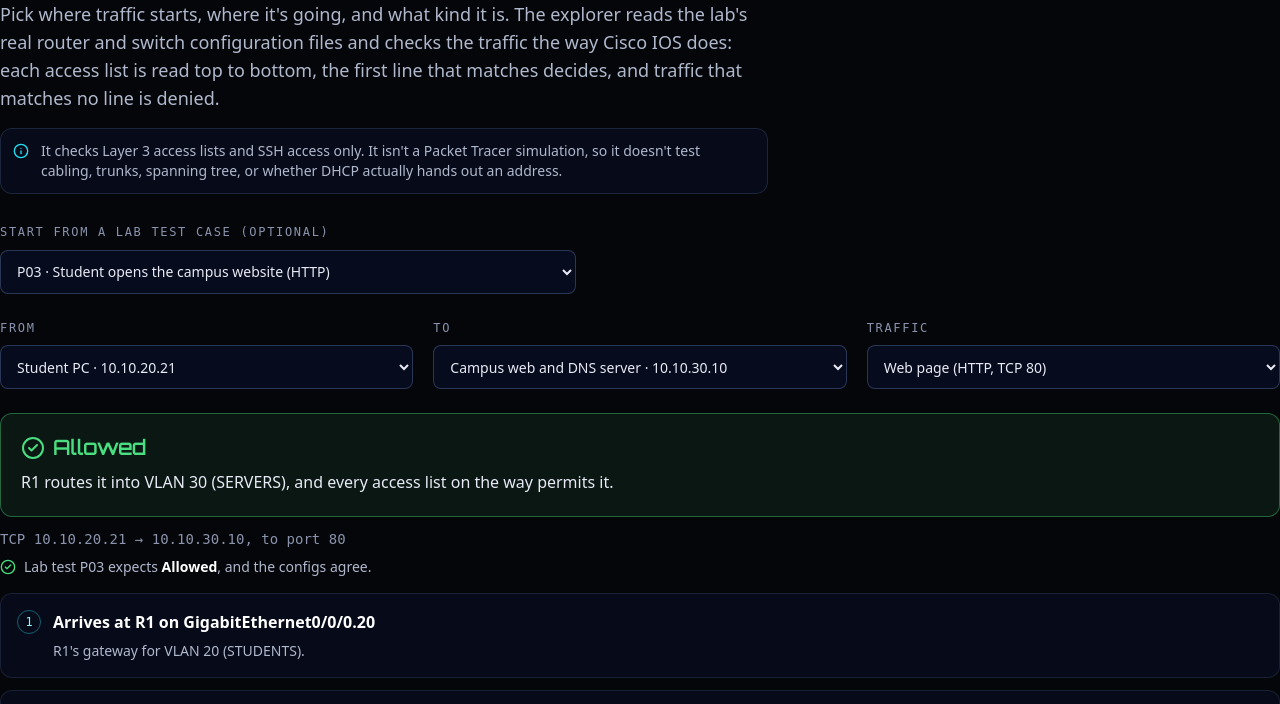
Test: policy explorer › accepts a typed address and port, and explains invalid input
The width and height of the screenshot is (1280, 704).
Select "Another address…" in the dropdown labelled "To": (640, 367) [433,345,847,389]
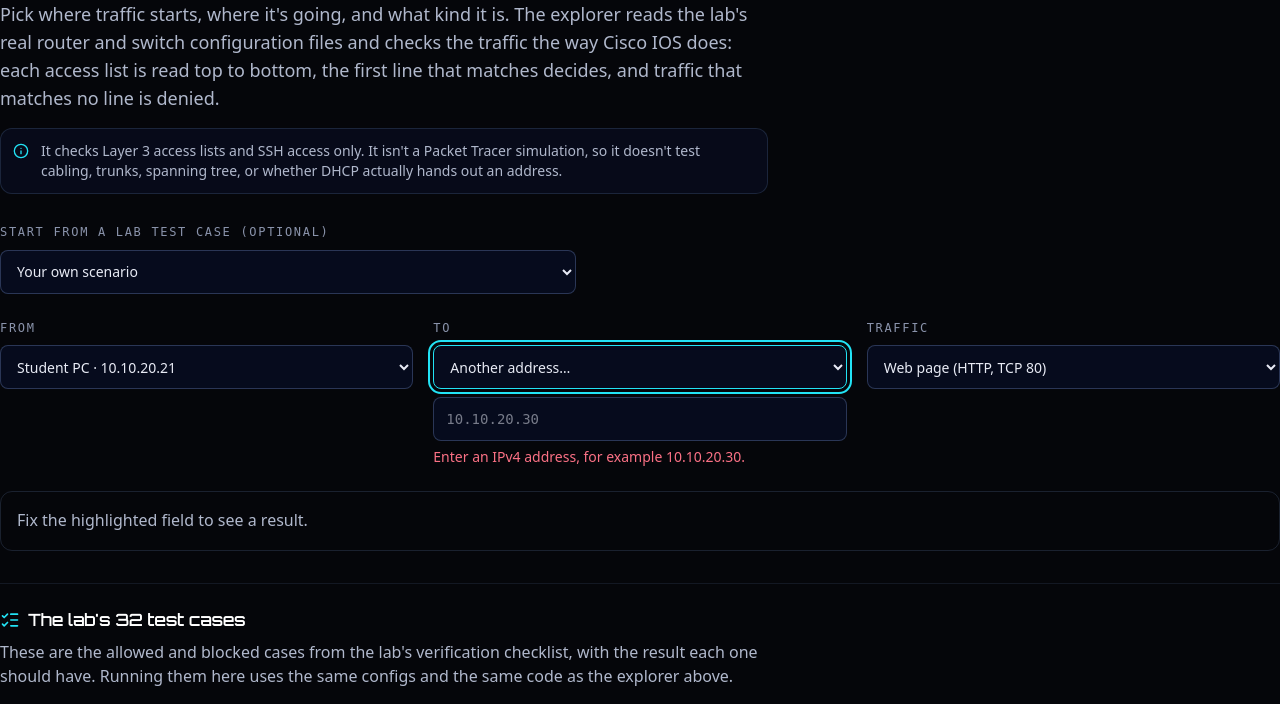
In the field named "To: IPv4 address": (640, 419) [433,397,847,441], type "10.10.30"
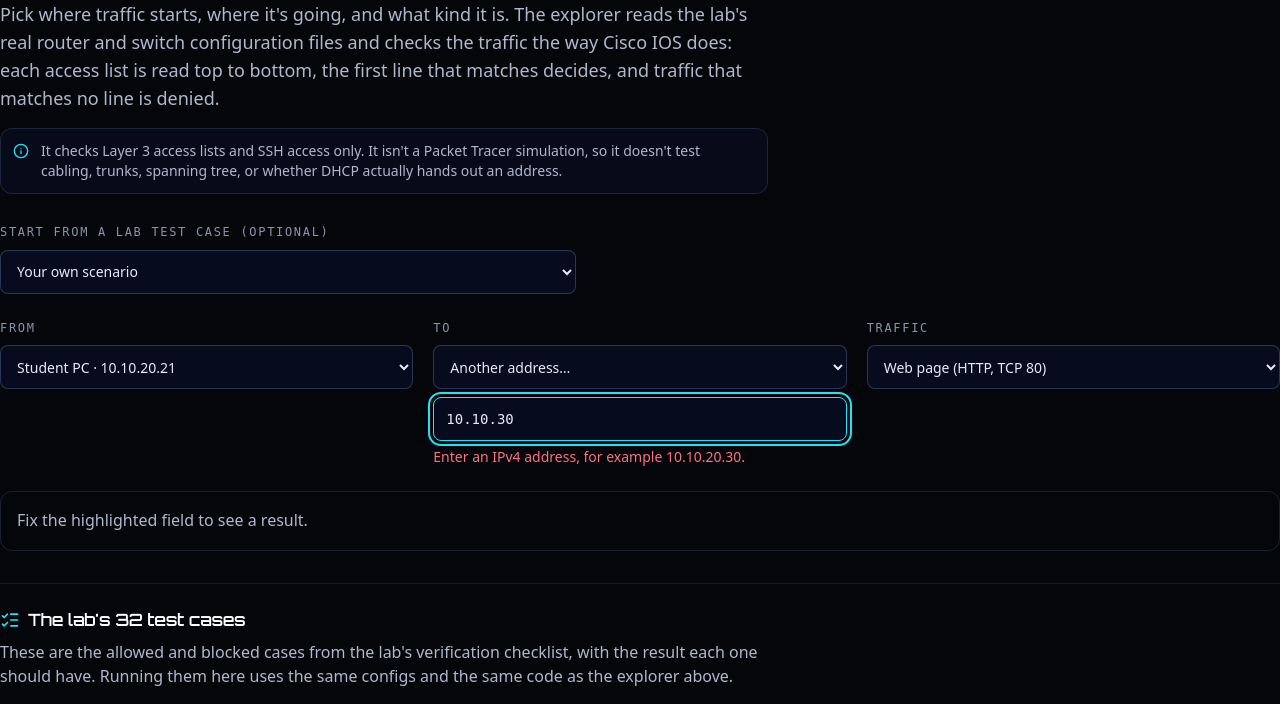
Check: the text "Enter an IPv4 address, for example 10.10.20.30." is shown, box [433,447,745,466]
Check: the text "Fix the highlighted field to see a result." is shown, box [0,491,1279,551]
In the field named "To: IPv4 address": (640, 419) [433,397,847,441], type ".10"
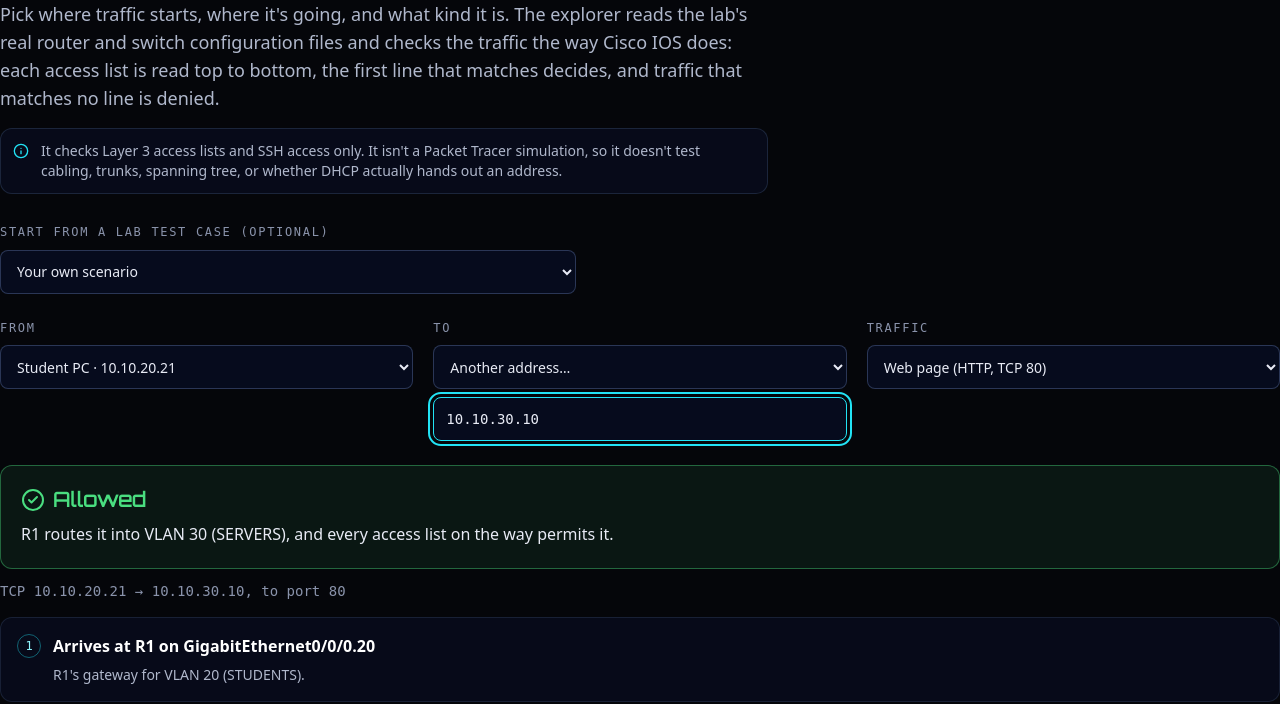
Select "Other TCP port" in the dropdown labelled "Traffic": (1073, 367) [867,345,1279,389]
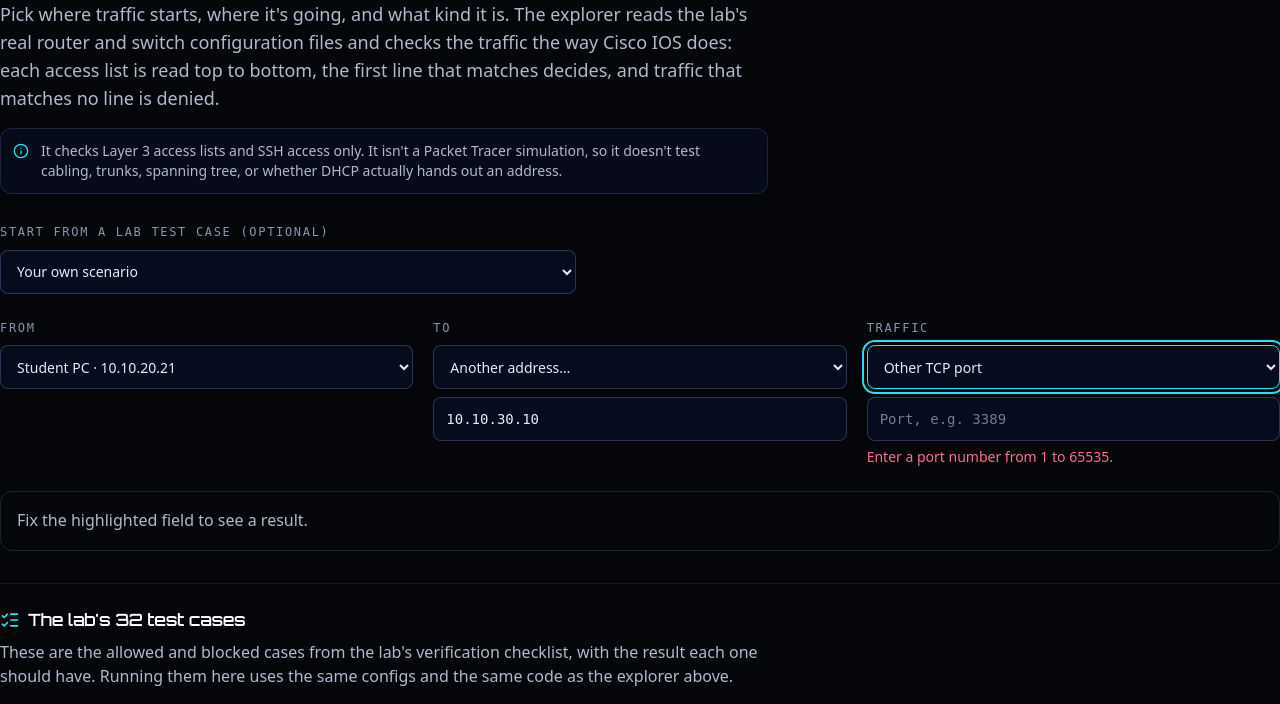
In the field named "Destination port number": (1073, 419) [867,397,1279,441], type "3389"
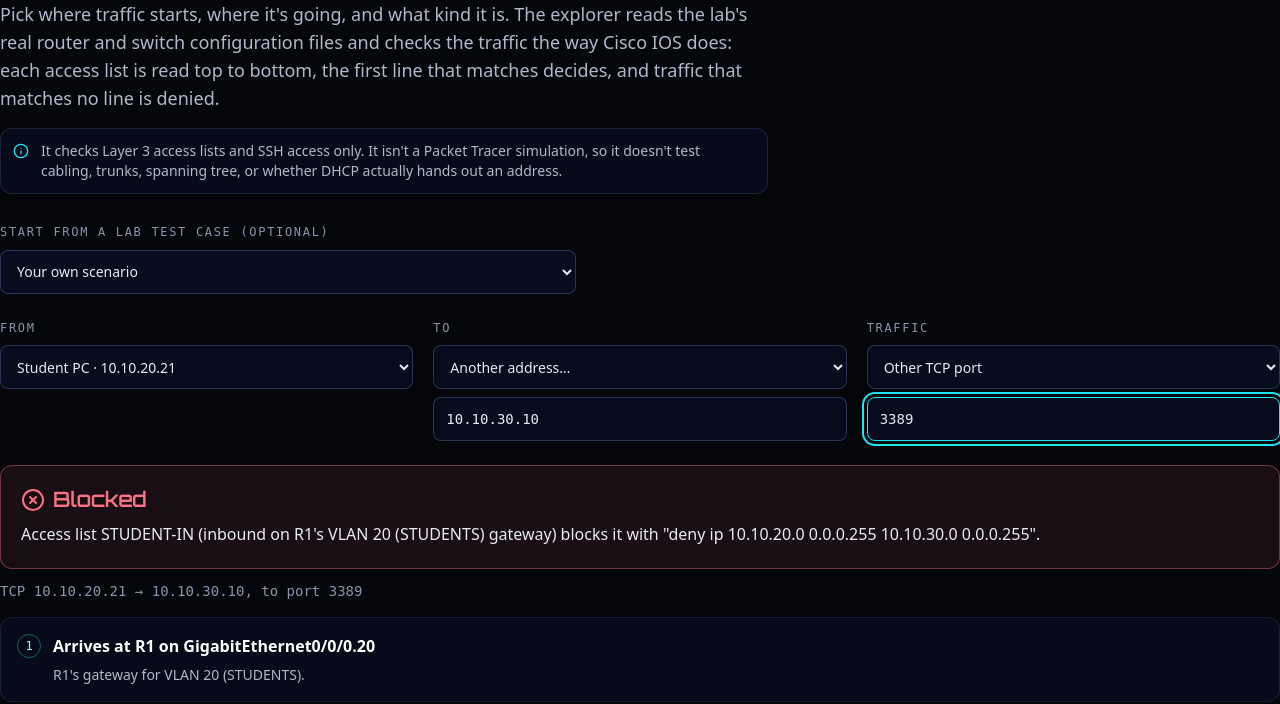
Check: the text "Blocked" is shown, box [21,487,146,512]
Check: the text "TCP 10.10.20.21 → 10.10.30.10, to port 3389" is shown, box [0,582,362,599]
